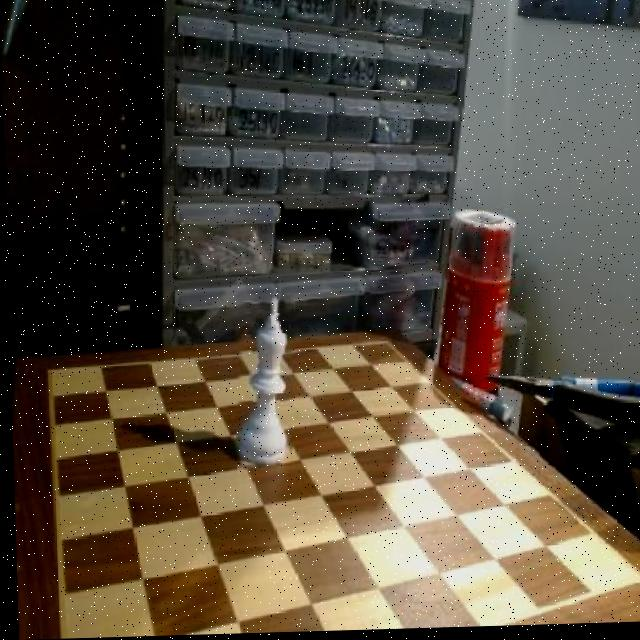white-bishop: (232, 295, 295, 474)
